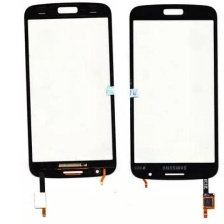phone: (20, 0, 119, 181), (128, 2, 220, 182)
